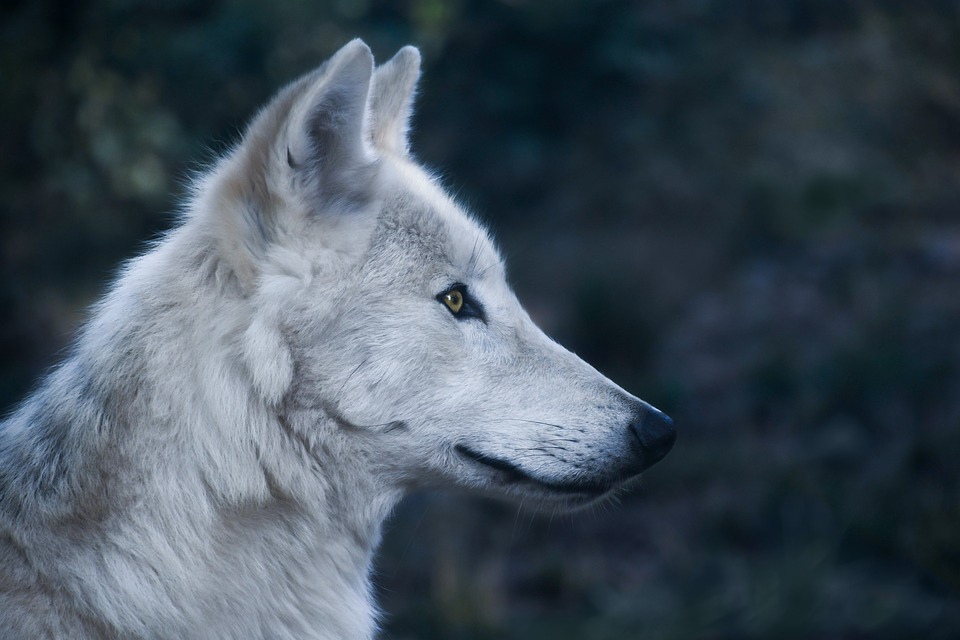wolf: (3, 78, 681, 640)
